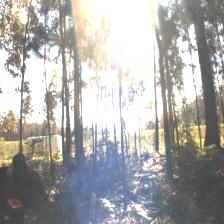trunktrack_idkeyframe: (194, 26, 221, 147), (74, 74, 85, 169), (162, 86, 173, 174), (62, 72, 71, 165), (154, 77, 159, 150), (19, 86, 24, 154), (119, 100, 125, 152)
